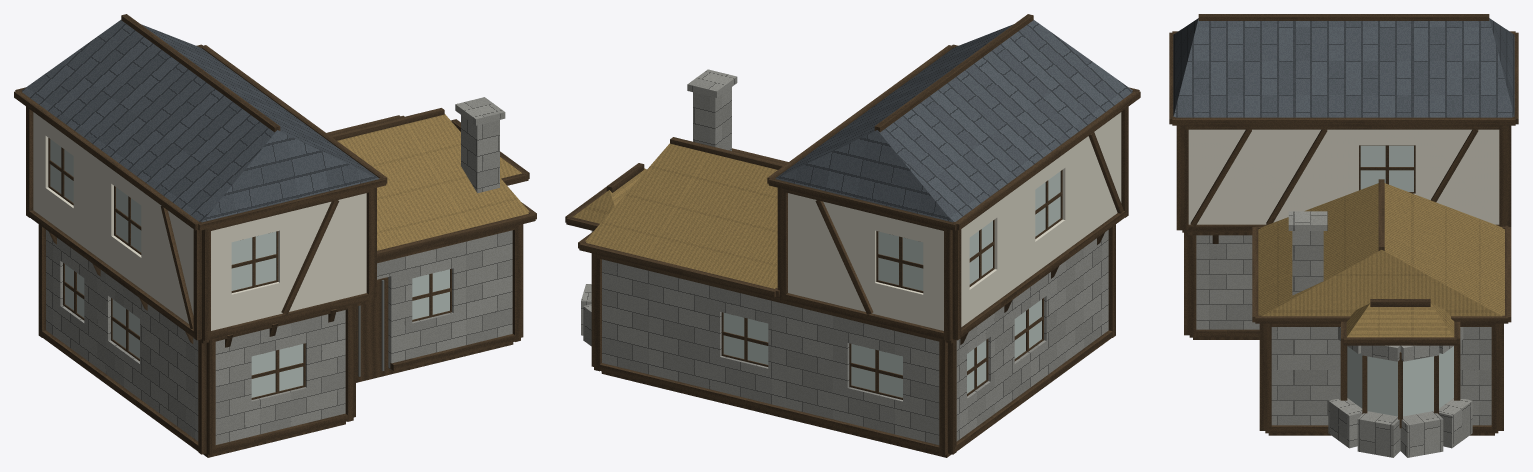
The model's file is lodge.glb.
3 views of the same model, side by side, from view 1: azimuth 30°, elevation 25°; view 2: azimuth 150°, elevation 25°; view 3: azimuth 270°, elevation 25° (orthographic). The views are drawn at different scales.
Parts seen in each view (by area): view 1: Lodge_GroundShell_Light_gray_limestone, Lodge_Roof_Blue_gray_slate, Lodge_UpperShell_Oat_plaster, Lodge_Roof_Muted_wheat_thatch, Lodge_GroundShell_Warm_oak, Lodge_UpperShell_Warm_oak, Lodge_Roof_Warm_oak, Lodge_Glazing_Muted_old_glass, Lodge_Chimney_Light_gray_limestone, Lodge_Door_Warm_oak, Lodge_GroundFloor_Warm_oak, Lodge_Door_Dark_iron; view 2: Lodge_GroundShell_Light_gray_limestone, Lodge_Roof_Blue_gray_slate, Lodge_UpperShell_Oat_plaster, Lodge_Roof_Muted_wheat_thatch, Lodge_GroundShell_Warm_oak, Lodge_UpperShell_Warm_oak, Lodge_Roof_Warm_oak, Lodge_Glazing_Muted_old_glass, Lodge_Chimney_Light_gray_limestone, Lodge_GroundFloor_Warm_oak; view 3: Lodge_Roof_Blue_gray_slate, Lodge_Roof_Muted_wheat_thatch, Lodge_GroundShell_Light_gray_limestone, Lodge_UpperShell_Oat_plaster, Lodge_Roof_Warm_oak, Lodge_GroundShell_Warm_oak, Lodge_UpperShell_Warm_oak, Lodge_Glazing_Muted_old_glass, Lodge_Chimney_Light_gray_limestone, Lodge_GroundFloor_Warm_oak.
Boxes of the visible parts, left/top/right/bottom form: Lodge_GroundShell_Light_gray_limestone: left=46, top=230, right=512, bottom=444; Lodge_Roof_Blue_gray_slate: left=22, top=20, right=379, bottom=222; Lodge_UpperShell_Oat_plaster: left=33, top=112, right=366, bottom=330; Lodge_Roof_Muted_wheat_thatch: left=337, top=114, right=529, bottom=250; Lodge_GroundShell_Warm_oak: left=38, top=224, right=523, bottom=455; Lodge_UpperShell_Warm_oak: left=26, top=106, right=376, bottom=341; Lodge_Roof_Warm_oak: left=14, top=14, right=536, bottom=259; Lodge_Glazing_Muted_old_glass: left=50, top=139, right=449, bottom=397; Lodge_Chimney_Light_gray_limestone: left=455, top=97, right=505, bottom=193; Lodge_Door_Warm_oak: left=356, top=277, right=388, bottom=377; Lodge_GroundFloor_Warm_oak: left=203, top=342, right=513, bottom=457; Lodge_Door_Dark_iron: left=358, top=280, right=384, bottom=376; Lodge_GroundShell_Light_gray_limestone: left=581, top=230, right=1108, bottom=444; Lodge_Roof_Blue_gray_slate: left=775, top=20, right=1132, bottom=222; Lodge_UpperShell_Oat_plaster: left=788, top=112, right=1121, bottom=330; Lodge_Roof_Muted_wheat_thatch: left=573, top=143, right=777, bottom=288; Lodge_GroundShell_Warm_oak: left=591, top=224, right=1115, bottom=455; Lodge_UpperShell_Warm_oak: left=777, top=106, right=1128, bottom=341; Lodge_Roof_Warm_oak: left=565, top=14, right=1140, bottom=297; Lodge_Glazing_Muted_old_glass: left=723, top=171, right=1060, bottom=397; Lodge_Chimney_Light_gray_limestone: left=687, top=69, right=737, bottom=150; Lodge_GroundFloor_Warm_oak: left=601, top=371, right=951, bottom=457; Lodge_Roof_Blue_gray_slate: left=1173, top=18, right=1514, bottom=117; Lodge_Roof_Muted_wheat_thatch: left=1258, top=183, right=1504, bottom=337; Lodge_GroundShell_Light_gray_limestone: left=1196, top=235, right=1491, bottom=457; Lodge_UpperShell_Oat_plaster: left=1188, top=129, right=1499, bottom=224; Lodge_Roof_Warm_oak: left=1169, top=14, right=1518, bottom=345; Lodge_GroundShell_Warm_oak: left=1184, top=232, right=1503, bottom=433; Lodge_UpperShell_Warm_oak: left=1176, top=125, right=1511, bottom=232; Lodge_Glazing_Muted_old_glass: left=1347, top=145, right=1453, bottom=416; Lodge_Chimney_Light_gray_limestone: left=1288, top=211, right=1327, bottom=295; Lodge_GroundFloor_Warm_oak: left=1193, top=337, right=1494, bottom=435.
Bounding box in the file's own units: 12.47 × 8.61 × 9.26.
Materials: 11 (4 with a texture image).
